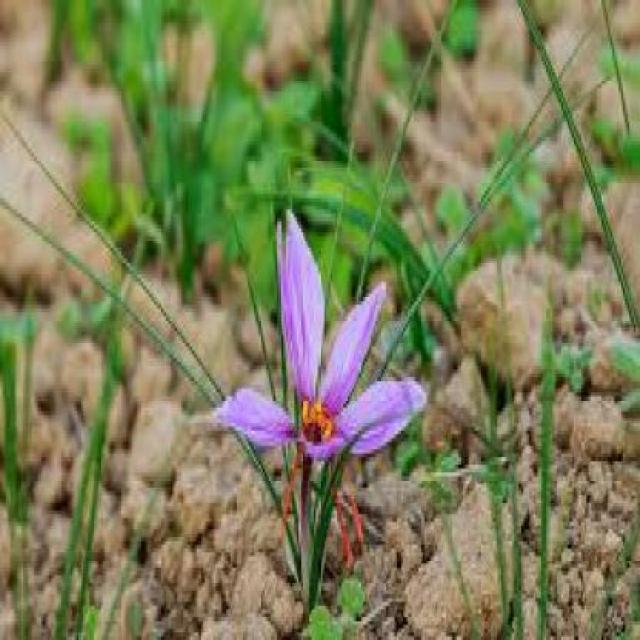Flower: (218, 211, 427, 480)
stigma: (277, 433, 312, 554), (328, 474, 363, 567)
